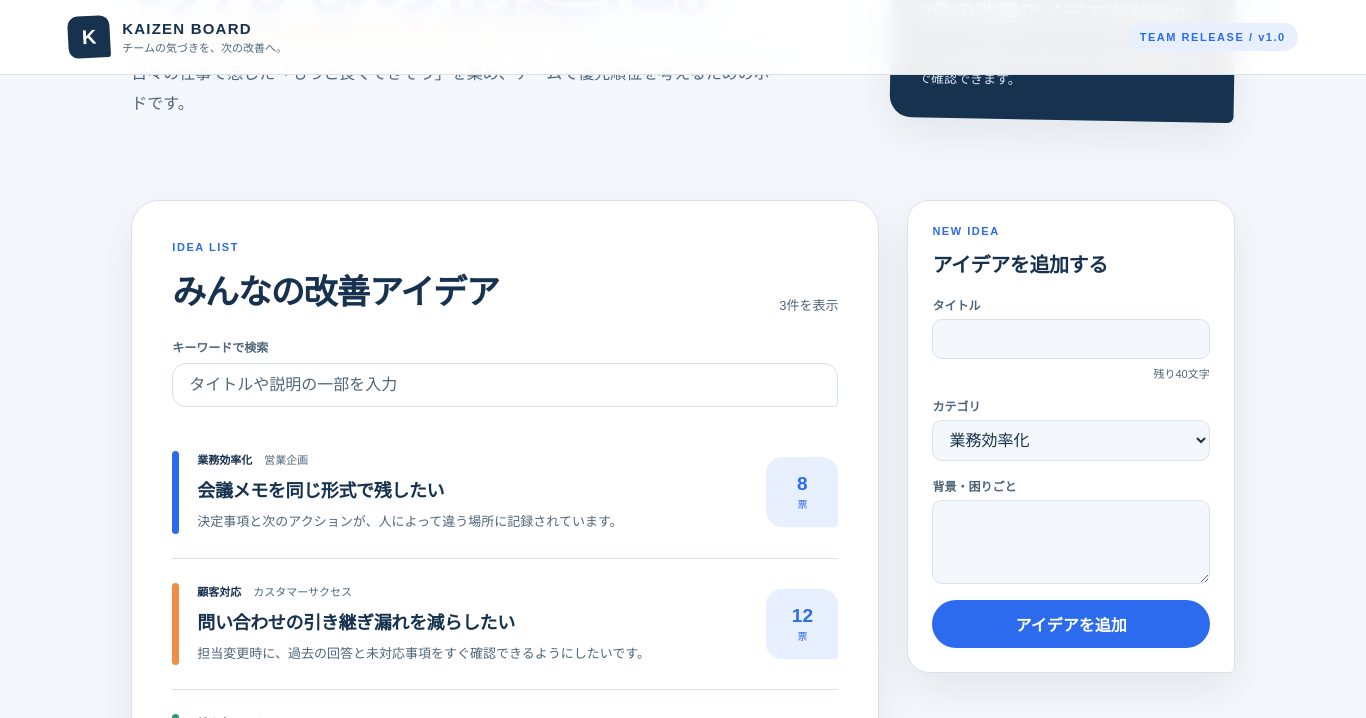
キーワード検索とアイデア一覧の連動 › タイトルだけでなく説明文の一部でも一致する
The width and height of the screenshot is (1366, 718).
(page scrolled)
Type "相談可能な時間" into the search field labelled "キーワードで検索" at (505, 385), box [172,363,838,407]
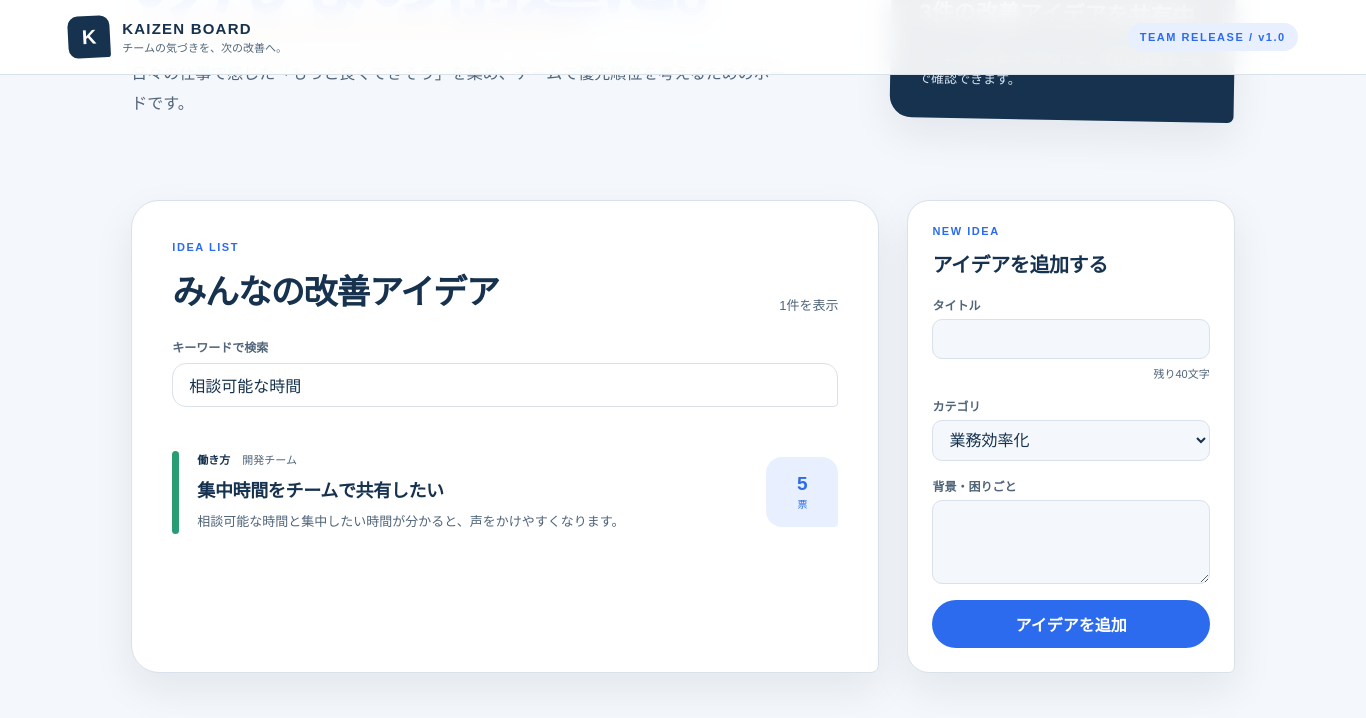
Expected: the heading "集中時間をチームで共有したい" is shown, [197,481,444,501]
Result: the text "1件を表示" is shown at [779,295,838,314]
